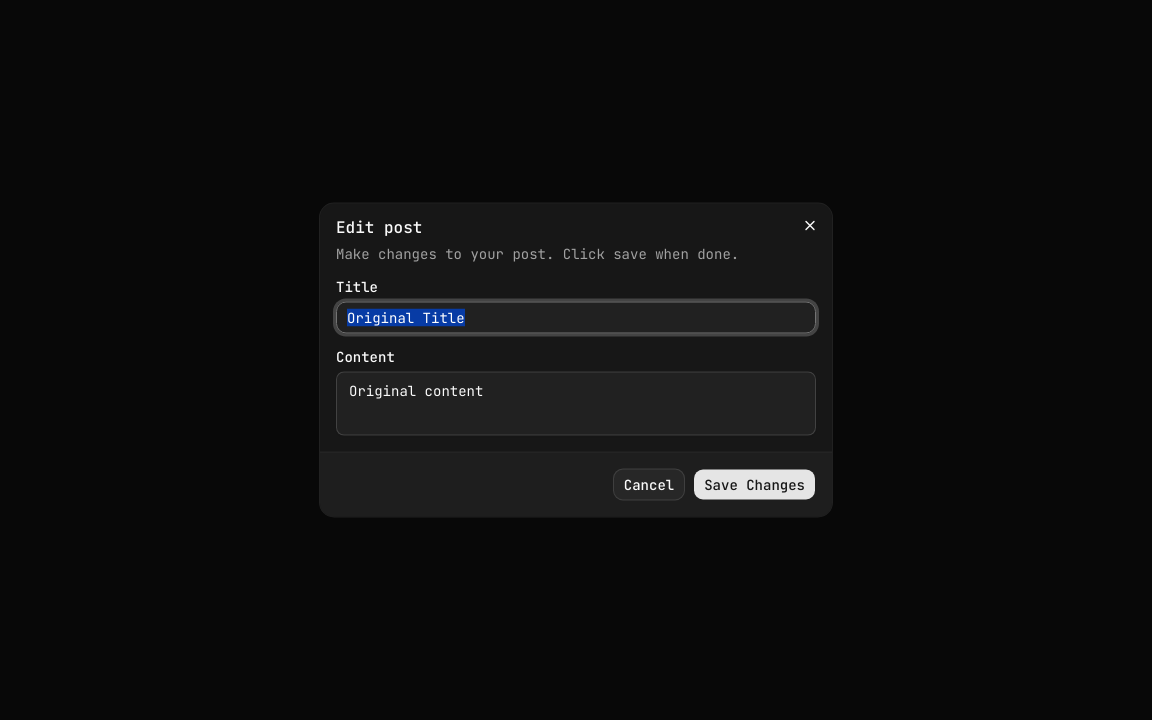
Test: EditPostDialog › shows loading state while saving
Click the button "Save Changes".
click(755, 484)  # box [693,468,816,500]
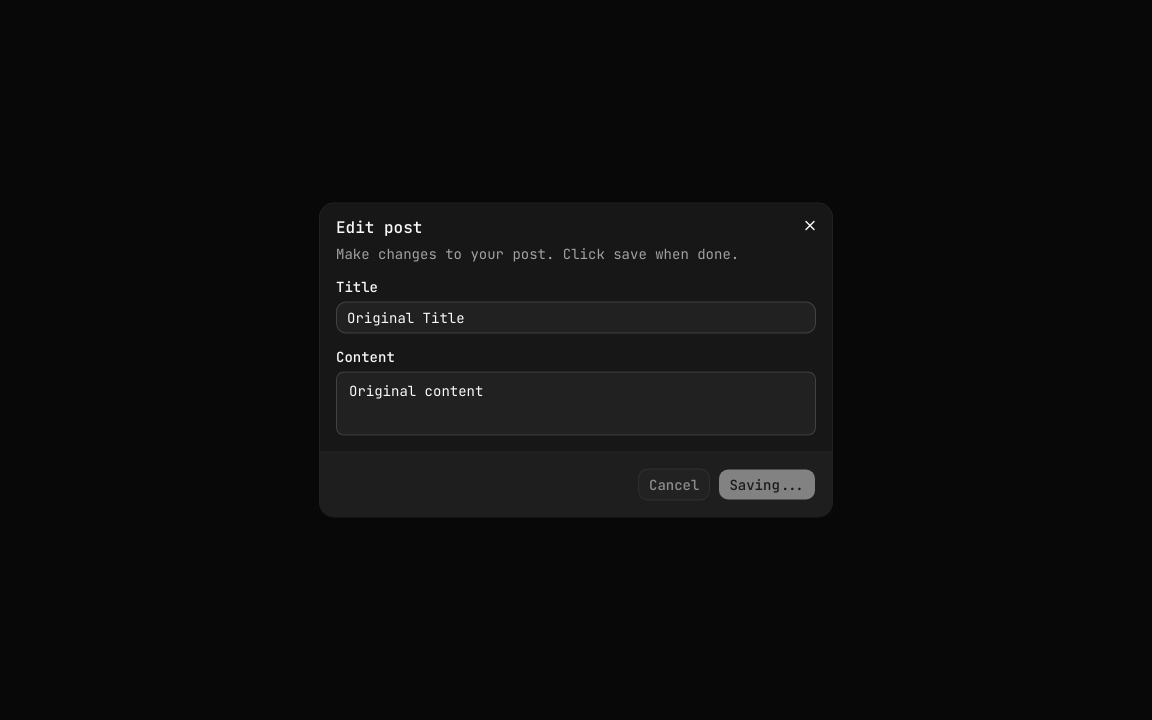
Expected: the button "Saving..." is disabled, [718,468,816,500]
